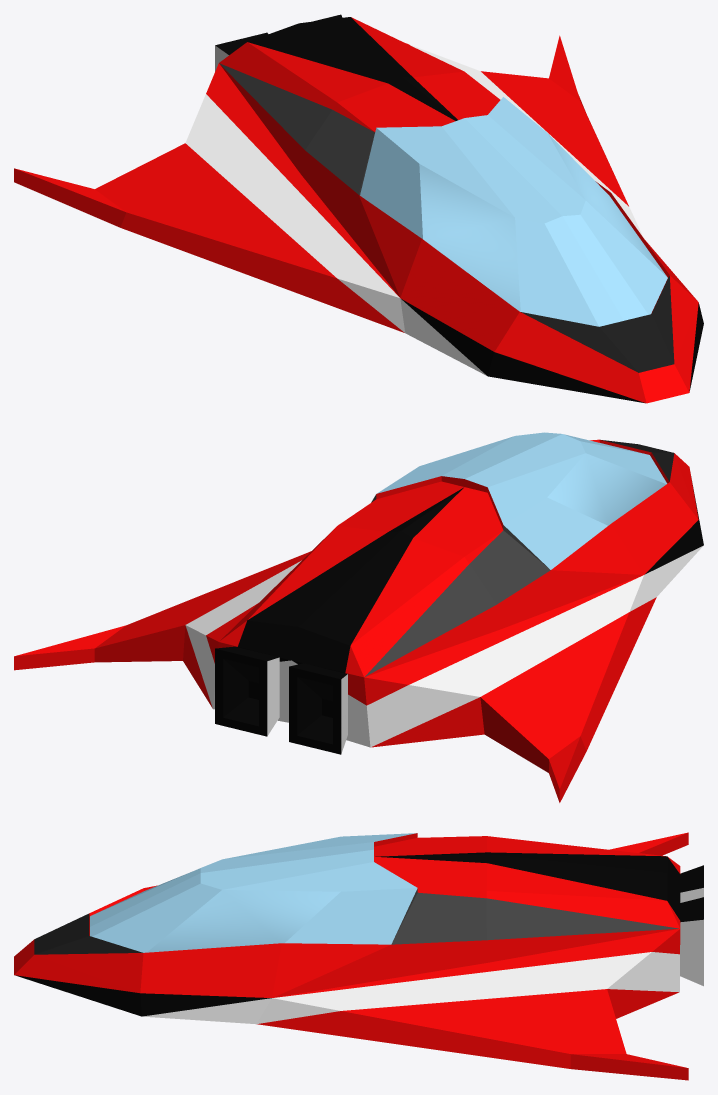
Rendered from SpaceshipKartColored.fbx.
The picture shows the model from 3 angles, top to bottom: view 1: azimuth 30°, elevation 25°; view 2: azimuth 150°, elevation 25°; view 3: azimuth 270°, elevation 25°; orthographic projection. The views are drawn at different scales.
Parts seen in each view (by area): view 1: Cube; view 2: Cube; view 3: Cube.
Part boxes in pixels (x1,y1,x2,y2): Cube: [14, 14, 703, 403]; Cube: [14, 432, 703, 802]; Cube: [14, 832, 703, 1080].
Size of the model in its own units: 5.14 by 4.15 by 1.02.
